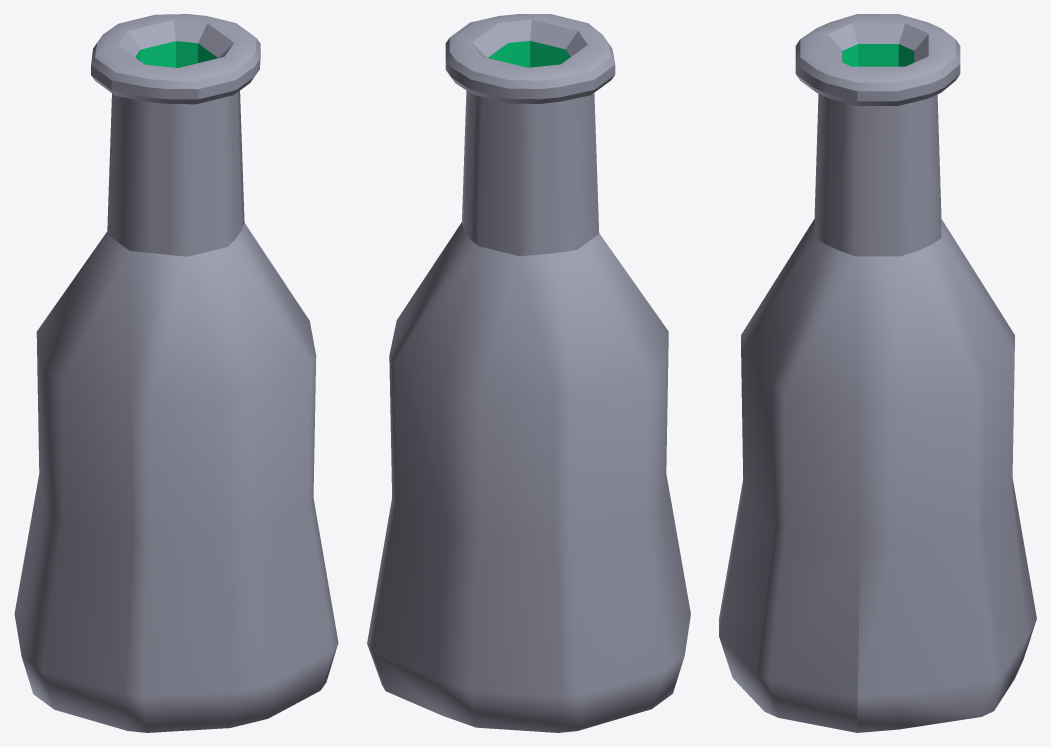
File: CurvedBottle.fbx
3 renders of one model, left to right at view 1: azimuth 30°, elevation 25°; view 2: azimuth 150°, elevation 25°; view 3: azimuth 270°, elevation 25°, orthographic.
Visible parts, largest first — view 1: polySurface142; view 2: polySurface142; view 3: polySurface142.
Part boxes in pixels (bbox=[...]): polySurface142: bbox=[14, 14, 338, 732]; polySurface142: bbox=[367, 14, 690, 732]; polySurface142: bbox=[719, 14, 1036, 732].
Bounding box in the file's own units: 0.283 × 0.6046 × 0.2713.
